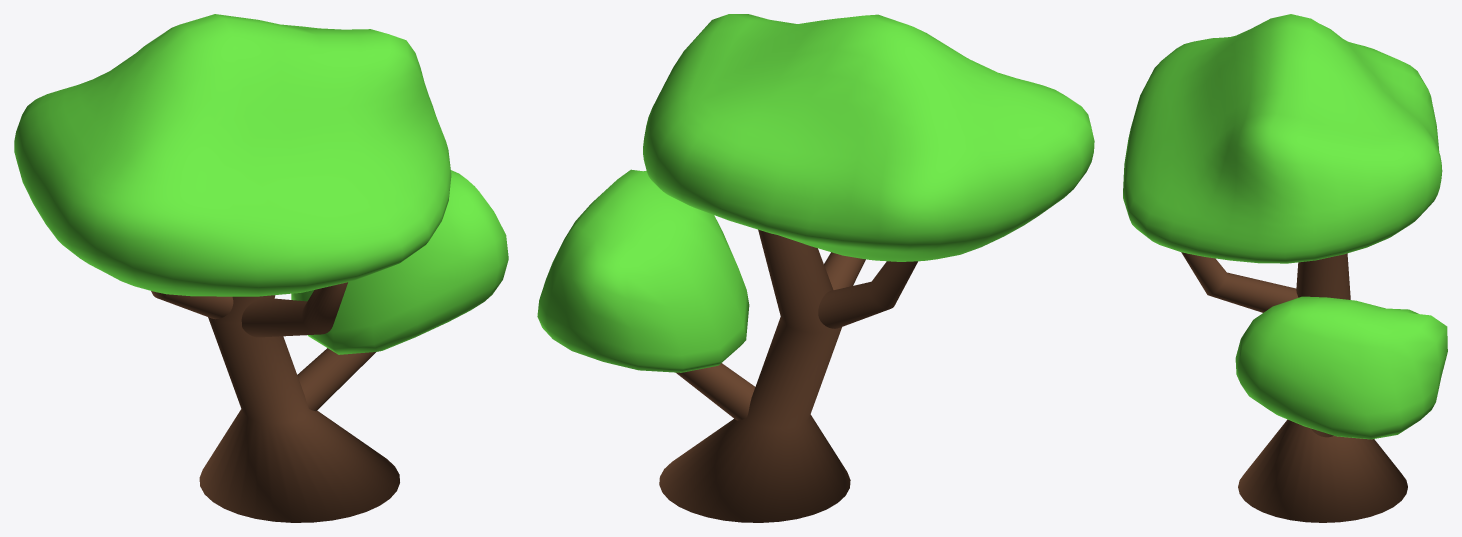
The model's file is tree4.glb.
3 renders of one model, left to right at view 1: azimuth 30°, elevation 25°; view 2: azimuth 150°, elevation 25°; view 3: azimuth 270°, elevation 25°, orthographic. The views are drawn at different scales.
Parts seen in each view (by area): view 1: tree4; view 2: tree4; view 3: tree4.
Part boxes in pixels (left/top/right/bottom): tree4: left=14, top=14, right=508, bottom=522; tree4: left=537, top=14, right=1094, bottom=522; tree4: left=1123, top=14, right=1447, bottom=522.
Bounding box in the file's own units: 5.24 × 5.18 × 3.61.
